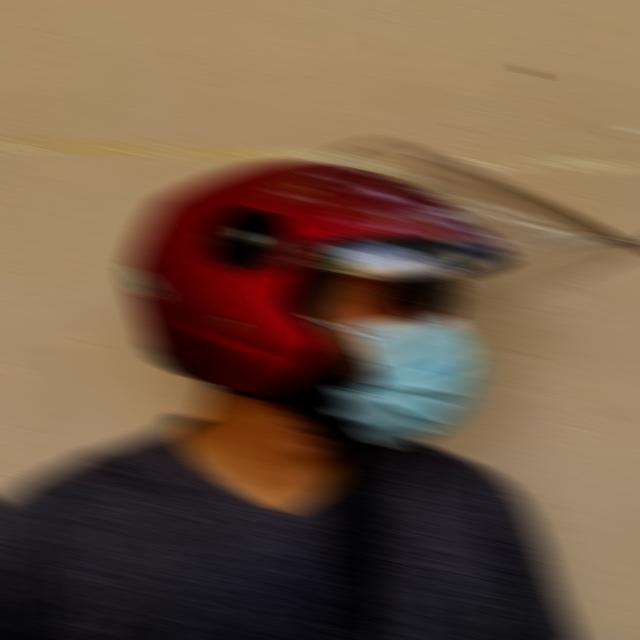With Helmet: (123, 134, 640, 437)
